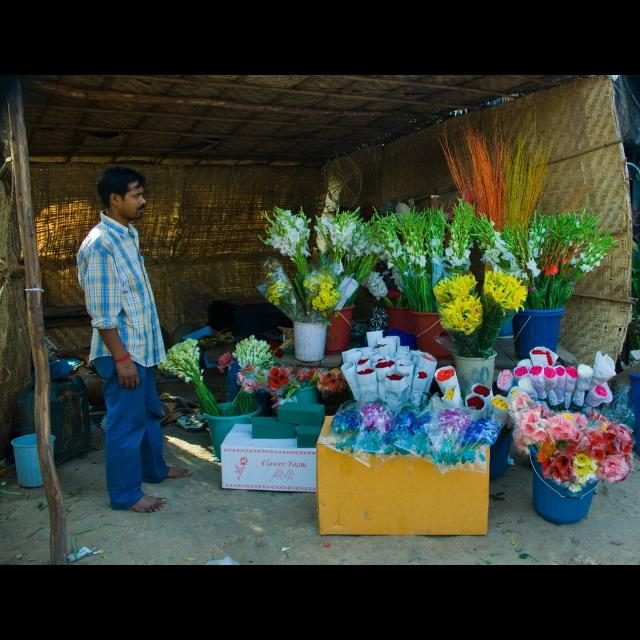Flower: (160, 199, 616, 497)
